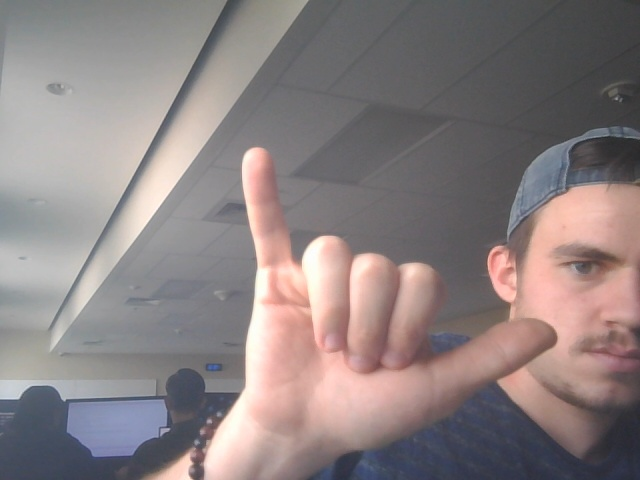birdsup: (228, 142, 563, 446)
